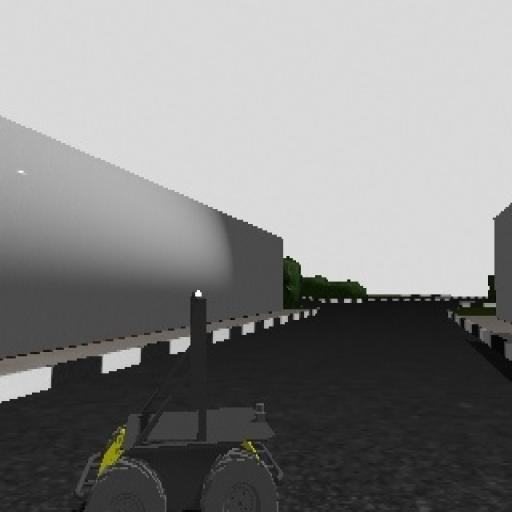huskya200: (74, 277, 286, 512)
